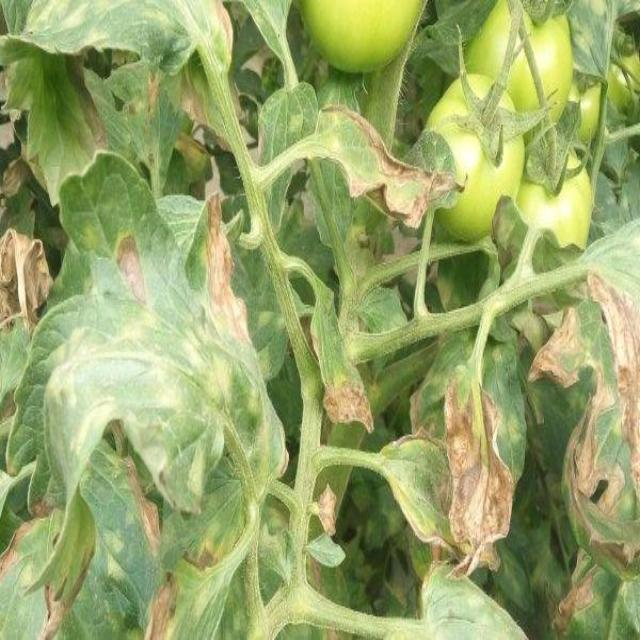Early_blight: (528, 269, 638, 640), (407, 369, 521, 579), (319, 104, 468, 231), (199, 192, 252, 346), (1, 226, 54, 334), (38, 542, 95, 640), (1, 495, 54, 582), (64, 50, 107, 156), (124, 453, 162, 558), (319, 373, 375, 437), (140, 570, 185, 640), (111, 228, 148, 307), (178, 68, 210, 132), (211, 1, 233, 56)
